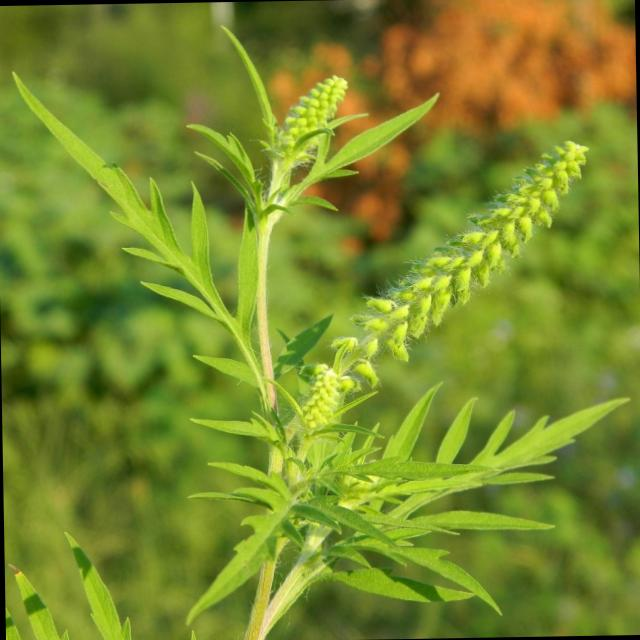ambrosia: (242, 84, 610, 446), (38, 20, 462, 242)
